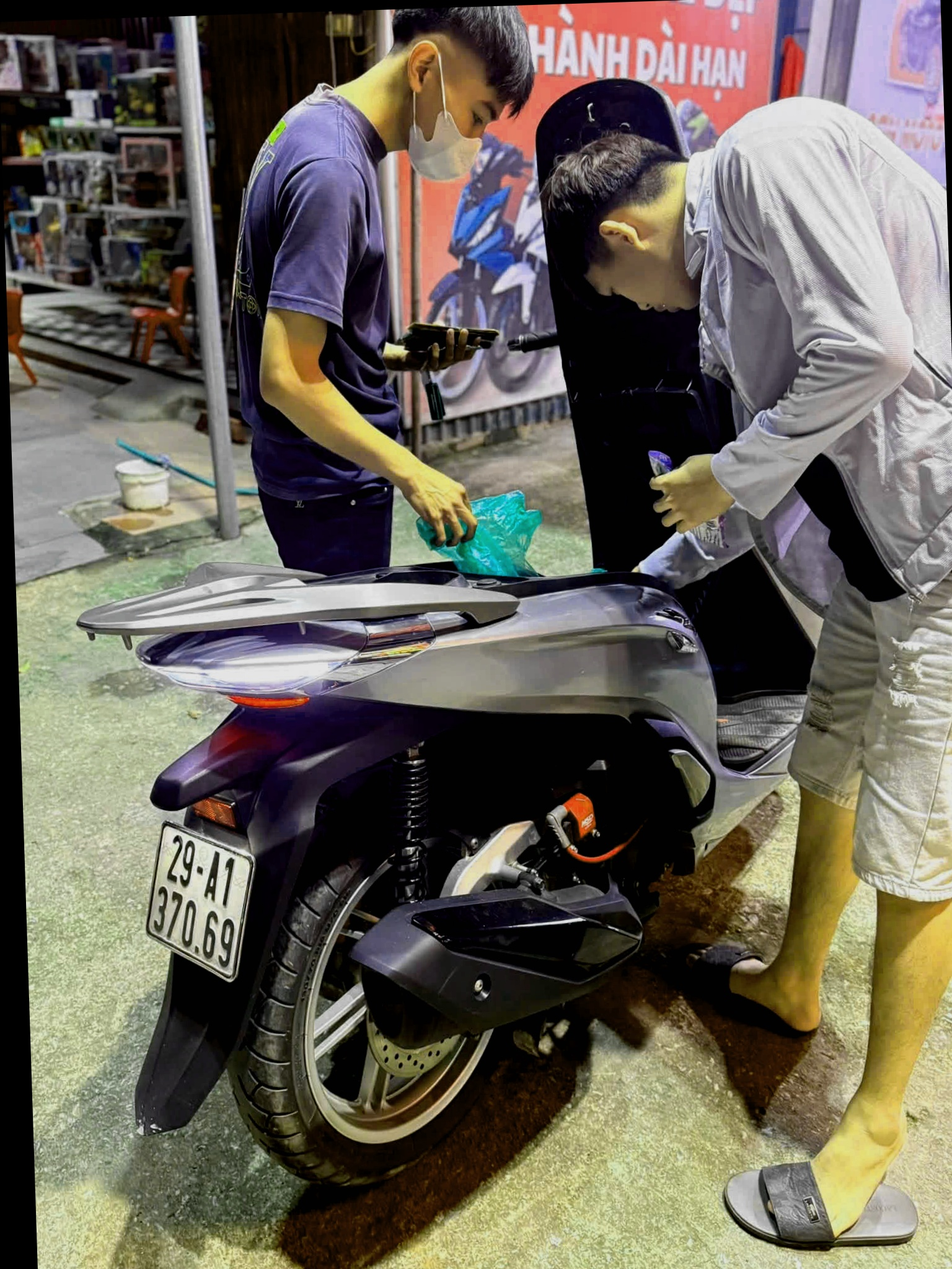Bien-so: (144, 800, 275, 963)
